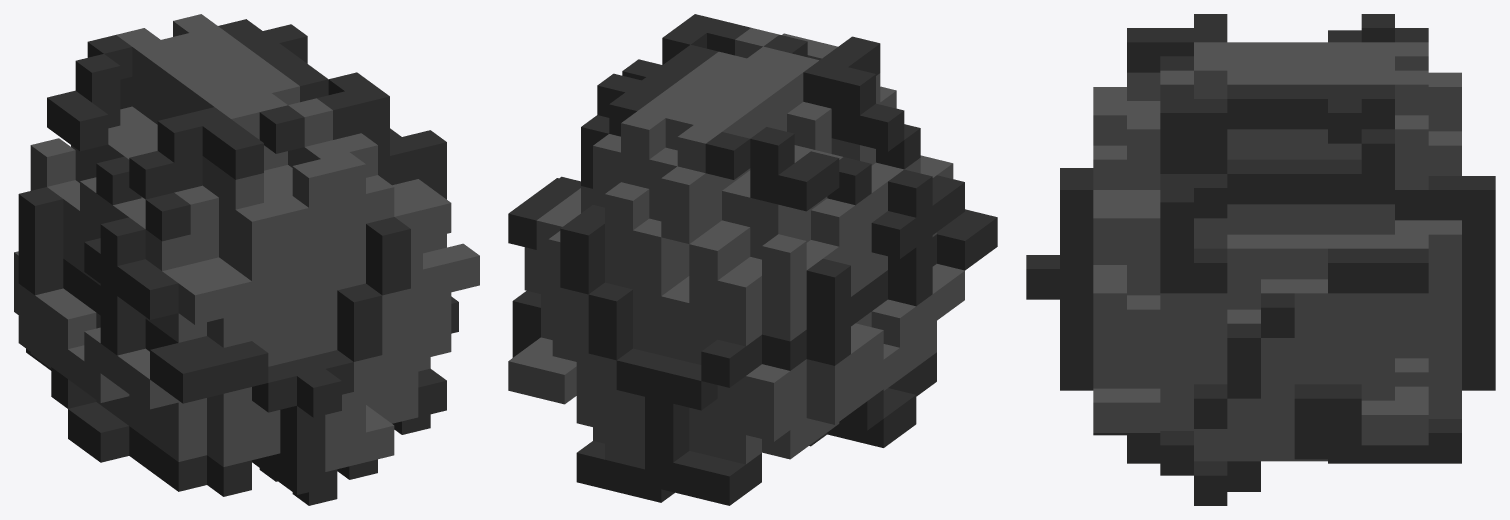
File: stone.obj
3 renders of one model, left to right at view 1: azimuth 30°, elevation 25°; view 2: azimuth 150°, elevation 25°; view 3: azimuth 270°, elevation 25°, orthographic. The views are drawn at different scales.
Bounding box in the file's own units: 1.2 × 1.2 × 1.4.
1 material, 1 textured.
